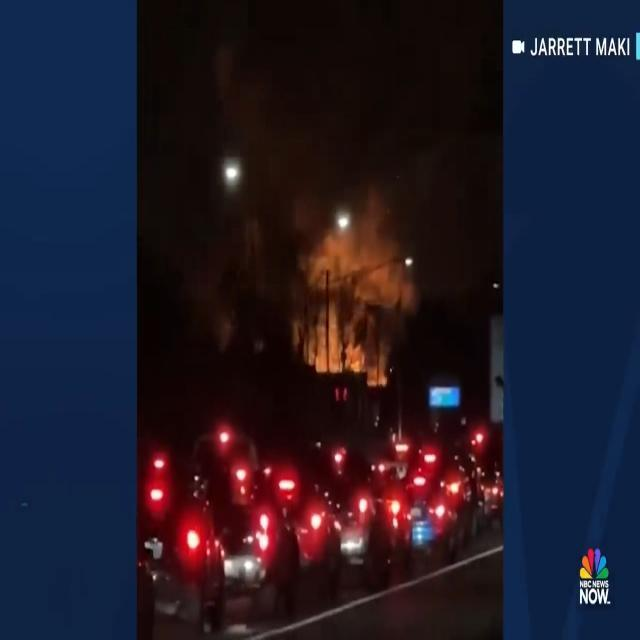fire: (309, 318, 378, 374)
